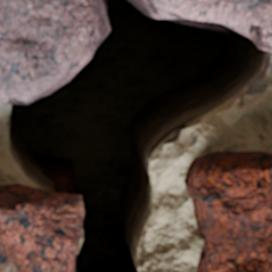brick: (185, 152, 271, 271), (0, 184, 83, 271)
broken_brick: (0, 0, 102, 104), (152, 0, 271, 53)
crack: (2, 0, 269, 271)
